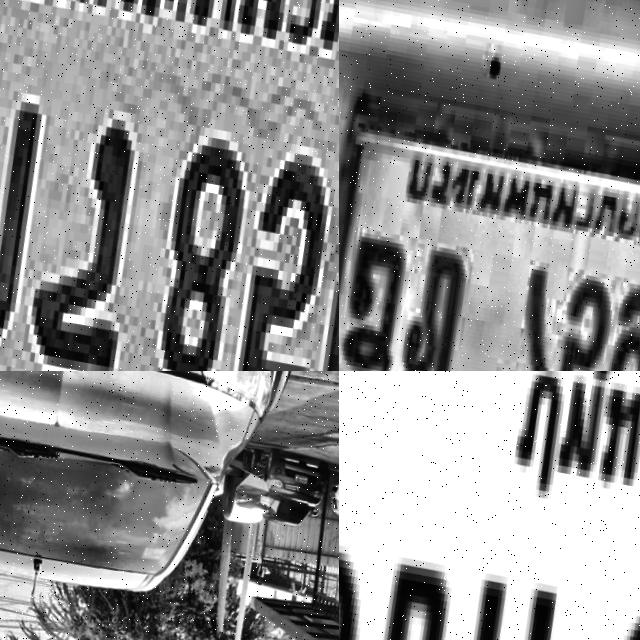license-plate: (0, 0, 339, 371), (339, 18, 640, 371), (339, 371, 640, 640)
